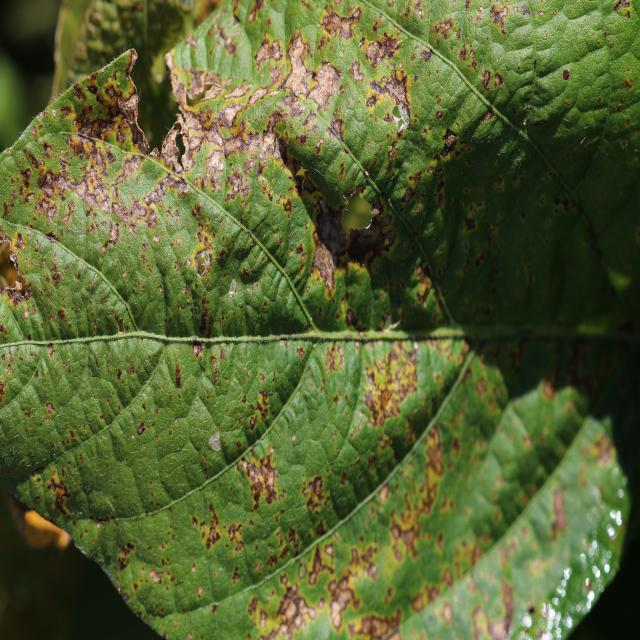Bacterial_Blight: (48, 141, 145, 229), (276, 34, 352, 124), (455, 187, 511, 294), (361, 352, 407, 428), (386, 481, 429, 559), (345, 202, 395, 268), (269, 580, 323, 636), (21, 141, 67, 199), (238, 446, 280, 507), (220, 119, 270, 169), (259, 515, 301, 571), (165, 56, 201, 116), (35, 101, 78, 141), (115, 112, 151, 155), (351, 609, 399, 640), (320, 6, 358, 44), (196, 144, 227, 190), (365, 30, 403, 67), (310, 238, 336, 292), (45, 470, 74, 518), (302, 472, 332, 515), (306, 542, 335, 586), (380, 73, 411, 114), (548, 487, 569, 540), (247, 388, 271, 430), (2, 281, 33, 310), (202, 508, 223, 550), (254, 37, 280, 69), (6, 243, 26, 278), (489, 3, 511, 34), (218, 102, 244, 128), (116, 540, 136, 572), (123, 46, 139, 78), (440, 130, 458, 157), (433, 18, 453, 40), (174, 129, 188, 160), (195, 249, 211, 276), (197, 308, 212, 335), (89, 513, 117, 526), (209, 431, 222, 451), (613, 0, 631, 14), (191, 338, 204, 357), (418, 47, 432, 62), (481, 69, 491, 89), (115, 316, 126, 334), (149, 569, 162, 584), (610, 510, 622, 526), (44, 230, 58, 243), (44, 401, 56, 415), (175, 364, 182, 388), (46, 343, 56, 359), (494, 72, 504, 88), (622, 77, 634, 90), (458, 44, 467, 61), (137, 420, 146, 436), (229, 278, 238, 294), (494, 176, 503, 190), (57, 309, 66, 321), (196, 585, 204, 597), (562, 68, 570, 80), (435, 110, 443, 121), (210, 604, 218, 615), (539, 195, 547, 206), (116, 368, 123, 380), (564, 99, 572, 108), (363, 169, 370, 179), (173, 418, 179, 425), (598, 96, 603, 104), (523, 119, 527, 127), (131, 434, 135, 440)
Soybean: (0, 0, 640, 638)
